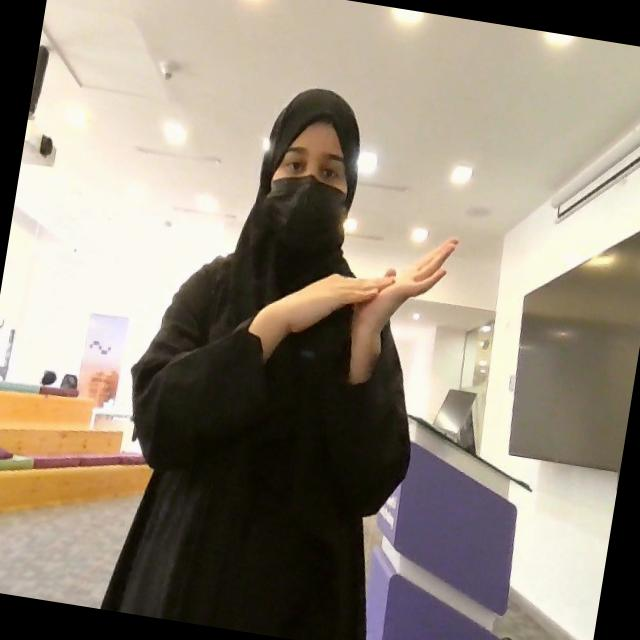complaint: (276, 207, 466, 371)
